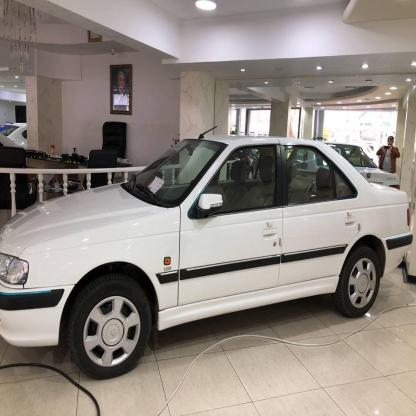Car: (0, 123, 416, 374), (290, 132, 402, 209)
